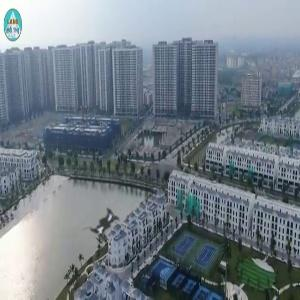drone: (69, 185, 147, 263)
